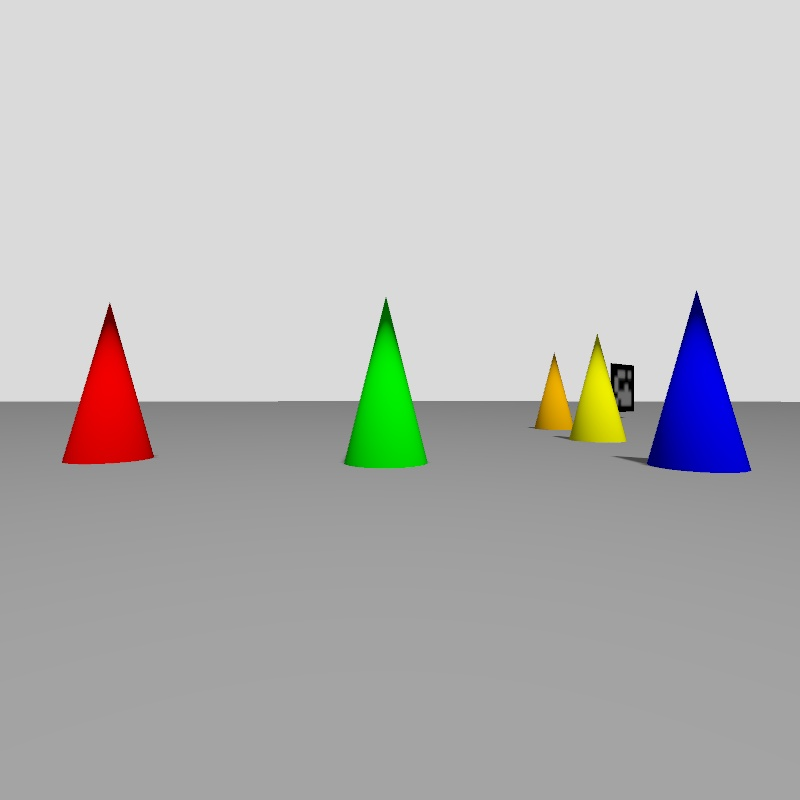Blue_cone: (648, 292, 750, 473)
Green_cone: (343, 300, 427, 467)
Orange_cone: (534, 354, 571, 429)
Red_cone: (62, 305, 153, 464)
Yellow_cone: (569, 336, 625, 441)
